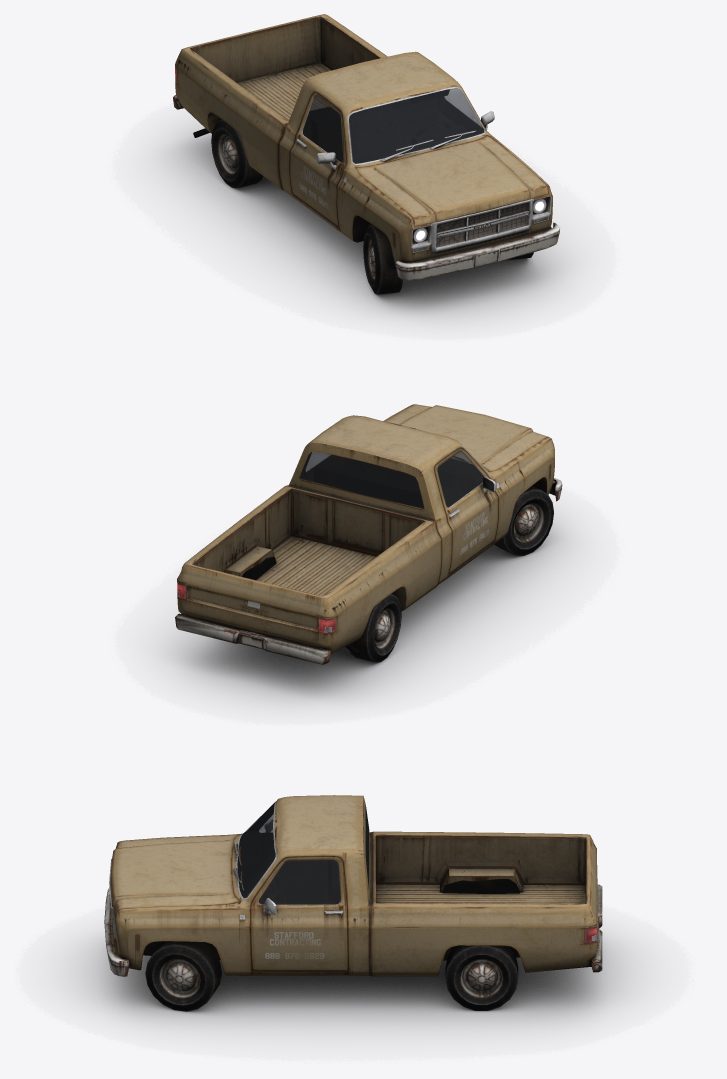
Rendered from gmc_sierra_work_truck.glb.
3 renders of one model, top to bottom at view 1: azimuth 30°, elevation 25°; view 2: azimuth 150°, elevation 25°; view 3: azimuth 270°, elevation 25°, orthographic. The views are drawn at different scales.
Parts seen in each view (by area): view 1: Object001_Material #33_0, Plane001, Object002_Material #34_0; view 2: Object001_Material #33_0, Plane001, Object002_Material #34_0; view 3: Object001_Material #33_0, Plane001, Object002_Material #34_0.
Part boxes in pixels (bbox=[...]): Object001_Material #33_0: bbox=[173, 14, 560, 294]; Plane001: bbox=[169, 127, 562, 316]; Object002_Material #34_0: bbox=[303, 88, 484, 163]; Object001_Material #33_0: bbox=[175, 404, 562, 664]; Plane001: bbox=[171, 522, 564, 700]; Object002_Material #34_0: bbox=[299, 451, 486, 508]; Object001_Material #33_0: bbox=[104, 795, 602, 1011]; Plane001: bbox=[83, 938, 623, 1025]; Object002_Material #34_0: bbox=[237, 802, 369, 904].
Size of the model in its own units: 185 by 71.44 by 297.
Materials: 3 (3 with a texture image).
